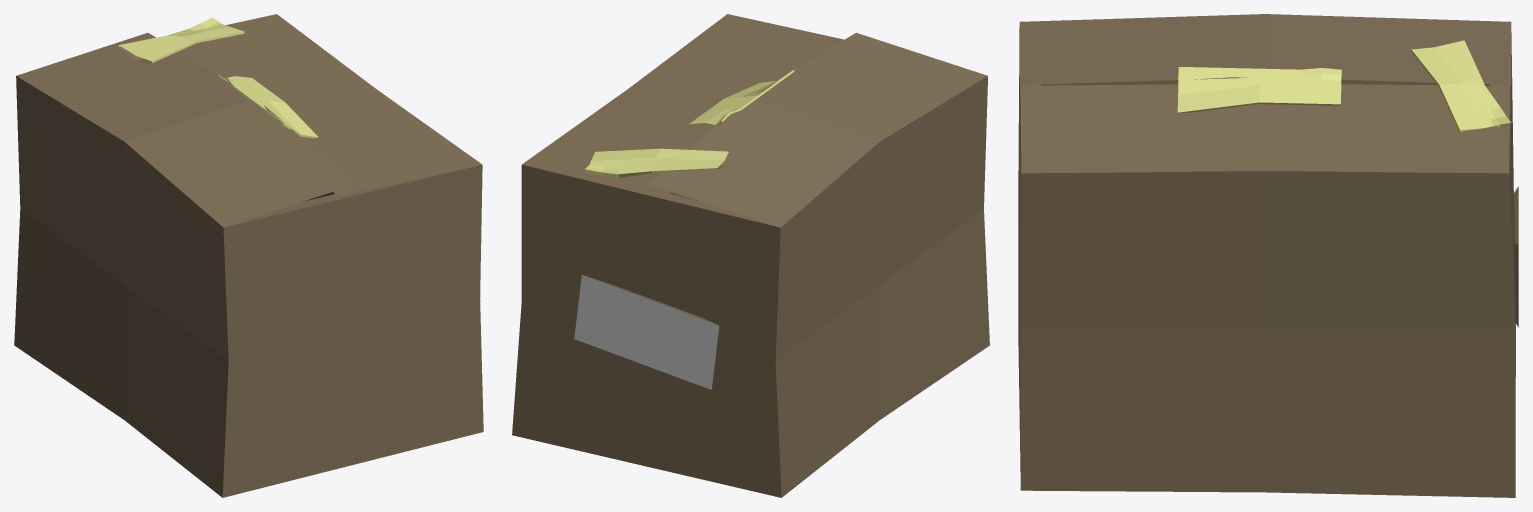
The model's file is clean box filing lid tape 4.fbx.
The picture shows the model from 3 angles, left to right: view 1: azimuth 30°, elevation 25°; view 2: azimuth 150°, elevation 25°; view 3: azimuth 270°, elevation 25°; orthographic projection. The views are drawn at different scales.
Parts seen in each view (by area): view 1: Cube; view 2: Cube; view 3: Cube.
Part boxes in pixels (box(x1,y1,x2,y2)): Cube: box(14, 14, 483, 497); Cube: box(512, 14, 989, 497); Cube: box(1018, 14, 1518, 497).
Bounding box in the file's own units: 213 × 225 × 290.
